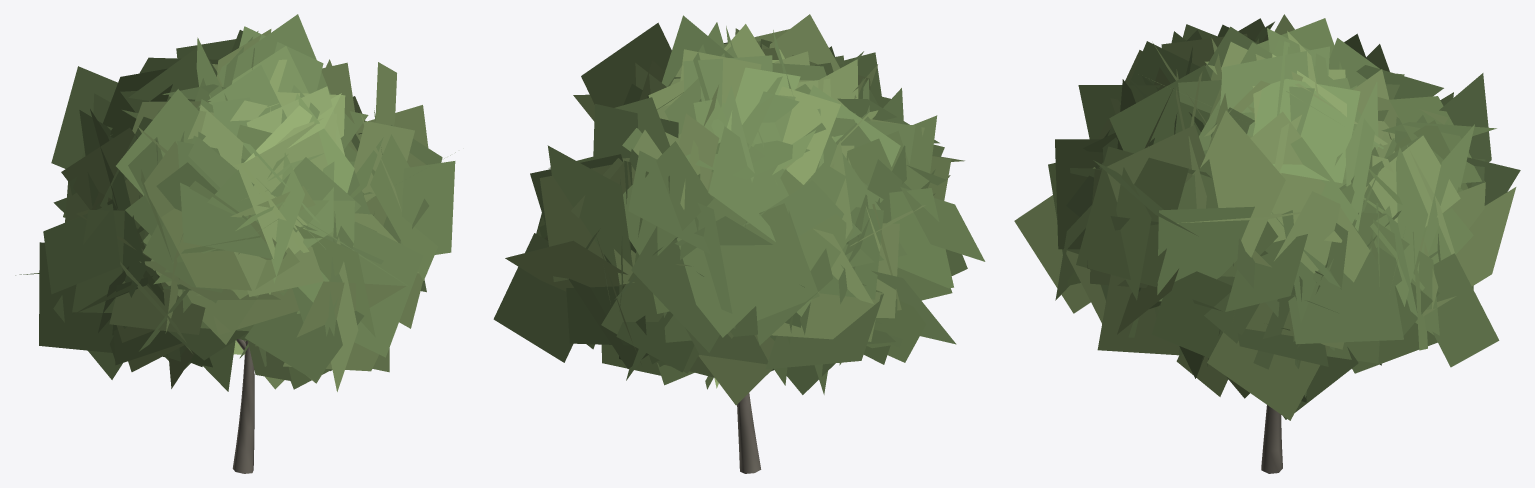
The model's file is ash_0.glb.
3 views of the same model, side by side, from view 1: azimuth 30°, elevation 25°; view 2: azimuth 150°, elevation 25°; view 3: azimuth 270°, elevation 25° (orthographic). The views are drawn at different scales.
Parts seen in each view (by area): view 1: ash_0; view 2: ash_0; view 3: ash_0.
Boxes of the visible parts, x1,y1,x2,y2 form: ash_0: [15, 14, 455, 473]; ash_0: [493, 14, 985, 473]; ash_0: [1014, 14, 1520, 473].
Bounding box in the file's own units: 0.9597 × 1 × 1.
